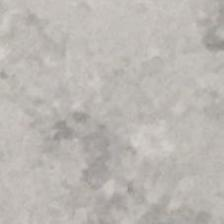Non_Crack: (32, 28, 172, 205)
